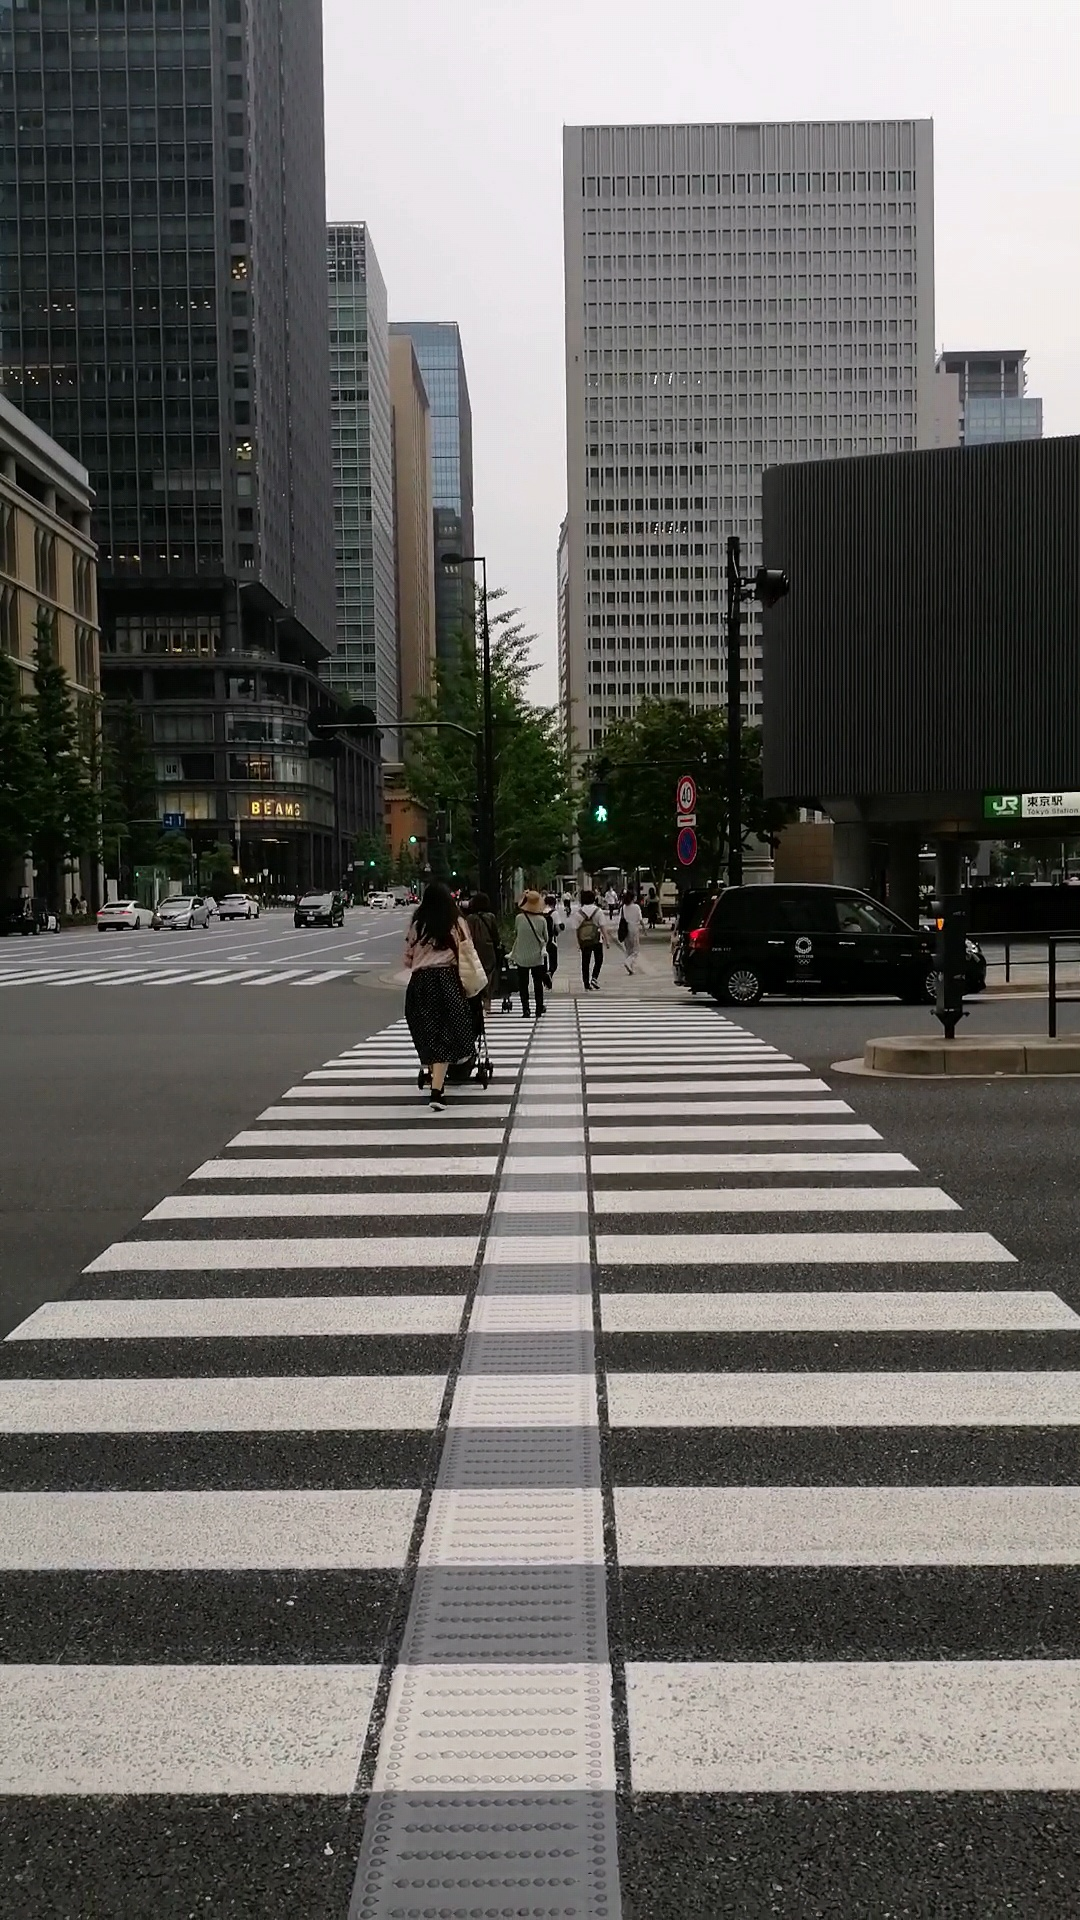green: (587, 781, 615, 829)
